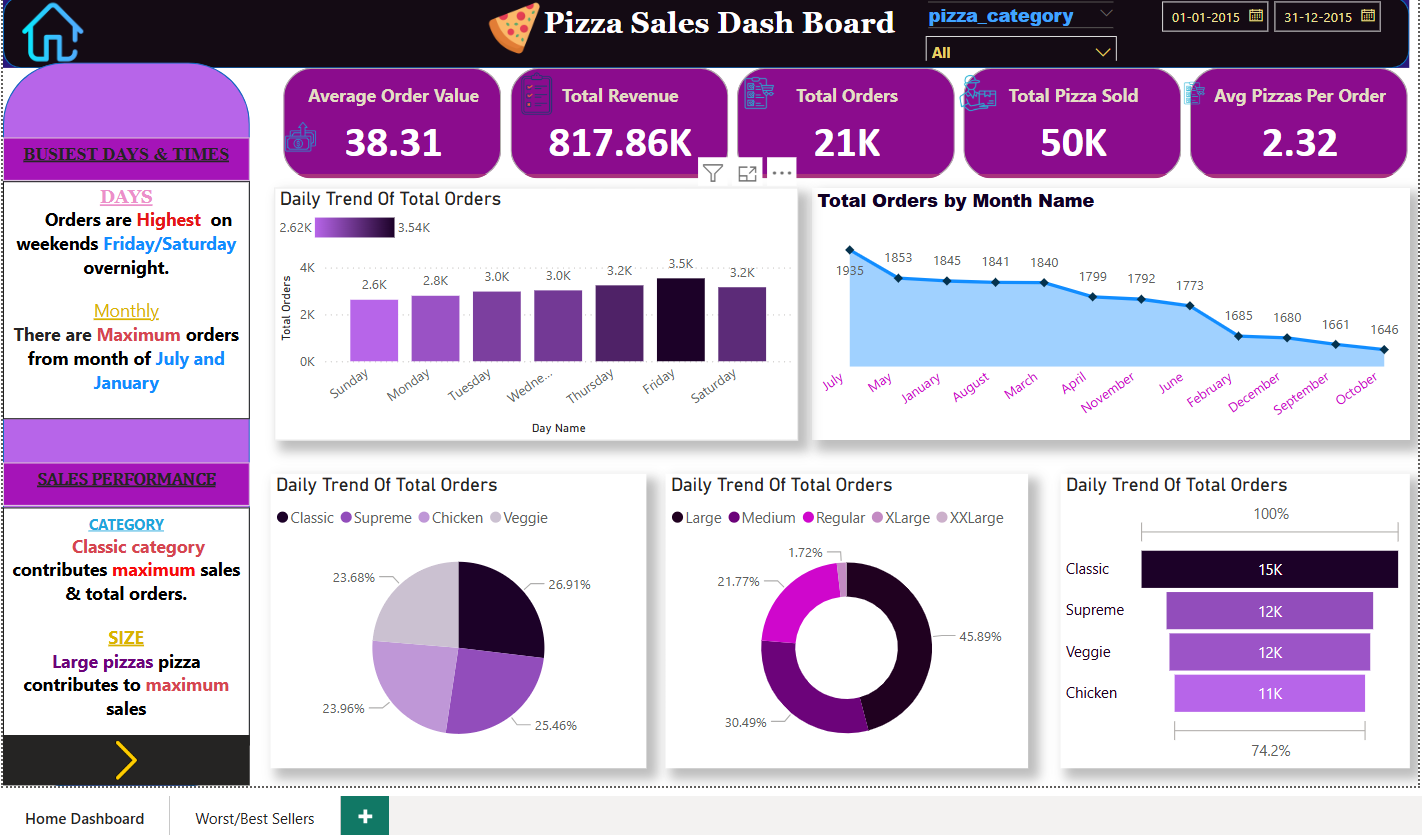

What the dashboard file says about the page in this screenshot:
{"tool":"powerbi","page":{"name":"Home Dashboard","canvas":[1280,720],"ordinal":0},"visuals":[{"type":"cardVisual","fields":{"Data":["pizza_sales.Average Order Value","pizza_sales.Total Revenue","pizza_sales.Total Orders","pizza_sales.Total Pizza Sold","pizza_sales.Avg Pizzas Per Order"]},"box":[248.8,65.1,1031.4,110.5],"z":0},{"type":"image","box":[858.1,70.9,46.5,44.2],"z":1000},{"type":"image","box":[241.9,111.6,54.7,41.9],"z":2000},{"type":"image","box":[650,73.3,68.6,39.5],"z":3000},{"type":"image","box":[450,68.6,66.3,50],"z":4000},{"type":"image","box":[1034.9,77.9,86,30.2],"z":5000},{"type":"shape","box":[0,5.8,1272.1,65.1],"z":6000},{"type":"textbox","box":[454.7,9.3,387.2,59.3],"z":7000},{"type":"image","box":[422.1,5.8,81.4,58.1],"z":8000},{"type":"columnChart","title":"Daily Trend Of Total Orders","fields":{"Category":["pizza_sales.Day Name"],"Y":["pizza_sales.Total Orders"]},"box":[245.6,178.4,473.4,229.2],"z":9000},{"type":"areaChart","fields":{"Category":["pizza_sales.Month Name"],"Y":["pizza_sales.Total Orders"]},"box":[731.4,178.4,540.7,229.2],"z":10000},{"type":"pieChart","title":"Daily Trend Of Total Orders","fields":{"Category":["pizza_sales.pizza_category"],"Y":["pizza_sales.Total Revenue"]},"box":[241.5,437.7,340.3,266.2],"z":11000},{"type":"funnel","title":"Daily Trend Of Total Orders","fields":{"Category":["pizza_sales.pizza_category"],"Y":["pizza_sales.Total Pizza Sold"]},"box":[956.4,437.7,315.6,266.2],"z":12000},{"type":"donutChart","title":"Daily Trend Of Total Orders","fields":{"Category":["pizza_sales.pizza_size"],"Y":["pizza_sales.Total Revenue"]},"box":[599.7,437.7,328,266.2],"z":13000},{"type":"shape","box":[0,65.1,223.3,654.7],"z":14000},{"type":"textbox","box":[0,173.3,223.3,215.1],"z":15000},{"type":"textbox","box":[0,133.7,223.3,39.5],"z":16000},{"type":"textbox","box":[0,427.9,223.3,39.5],"z":17000},{"type":"textbox","box":[0,468.6,223.3,215.1],"z":18000},{"type":"slicer","fields":{"Values":["pizza_sales.pizza_category"]},"box":[824.4,5.8,193,58.1],"z":19000},{"type":"slicer","fields":{"Values":["pizza_sales.order_date"]},"box":[1036,0,225.6,65.1],"z":20000},{"type":"image","box":[2.3,5.8,86,65.1],"z":20001},{"type":"image","box":[0,674.4,223.3,45.6],"z":20002}]}

Visuals, with their boxes on the page's 1280x720 design canvas (x1, y1, x2, y2). These are canvas units, not pixel positions in the 1422x835 screenshot, which may show the page scaled, cropped or inside an application window:
cardVisual - pizza_sales.Average Order Value x pizza_sales.Total Revenue: [left=249, top=65, right=1280, bottom=176]
image: [left=858, top=71, right=905, bottom=115]
image: [left=242, top=112, right=297, bottom=154]
image: [left=650, top=73, right=719, bottom=113]
image: [left=450, top=69, right=516, bottom=119]
image: [left=1035, top=78, right=1121, bottom=108]
shape: [left=0, top=6, right=1272, bottom=71]
textbox: [left=455, top=9, right=842, bottom=69]
image: [left=422, top=6, right=504, bottom=64]
"Daily Trend Of Total Orders" columnChart: [left=246, top=178, right=719, bottom=408]
areaChart - pizza_sales.Month Name x pizza_sales.Total Orders: [left=731, top=178, right=1272, bottom=408]
"Daily Trend Of Total Orders" pieChart: [left=242, top=438, right=582, bottom=704]
"Daily Trend Of Total Orders" funnel: [left=956, top=438, right=1272, bottom=704]
"Daily Trend Of Total Orders" donutChart: [left=600, top=438, right=928, bottom=704]
shape: [left=0, top=65, right=223, bottom=720]
textbox: [left=0, top=173, right=223, bottom=388]
textbox: [left=0, top=134, right=223, bottom=173]
textbox: [left=0, top=428, right=223, bottom=467]
textbox: [left=0, top=469, right=223, bottom=684]
slicer - pizza_sales.pizza_category: [left=824, top=6, right=1017, bottom=64]
slicer - pizza_sales.order_date: [left=1036, top=0, right=1262, bottom=65]
image: [left=2, top=6, right=88, bottom=71]
image: [left=0, top=674, right=223, bottom=720]
